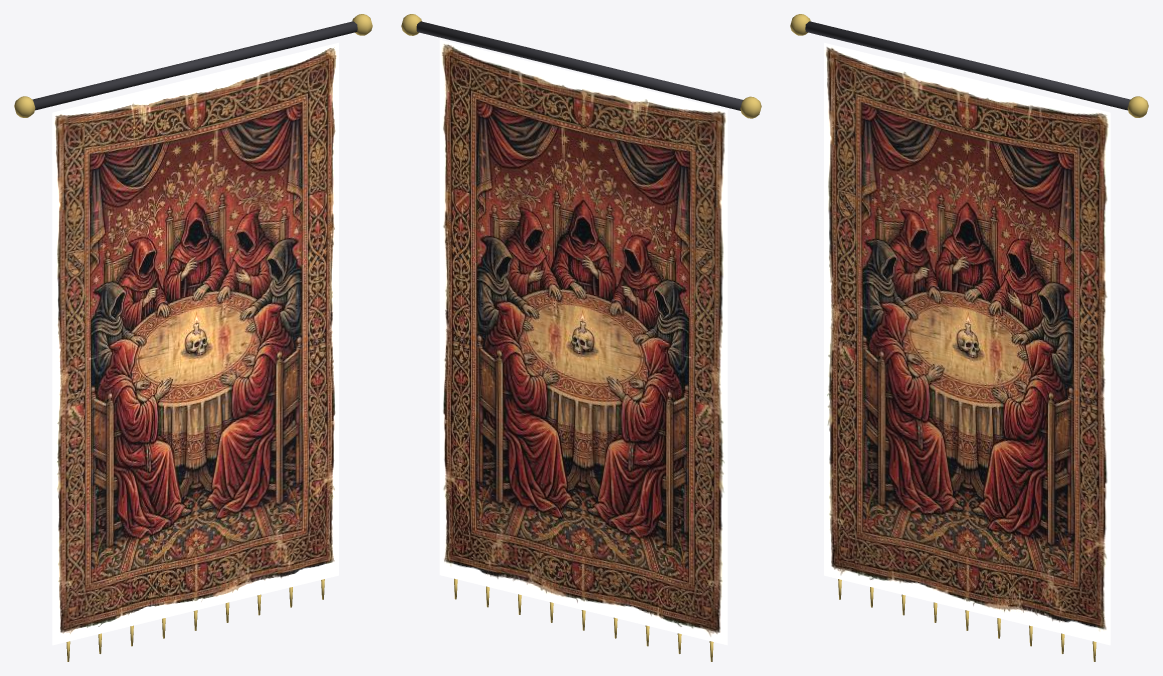
File: art_tapestry_council.glb
3 views of the same model, side by side, from view 1: azimuth 30°, elevation 25°; view 2: azimuth 150°, elevation 25°; view 3: azimuth 330°, elevation 25° (orthographic).
Parts seen in each view (by area): view 1: GD_art_tapestry_council__m0, GD_art_tapestry_council__m1, GD_art_tapestry_council__m2; view 2: GD_art_tapestry_council__m0, GD_art_tapestry_council__m1, GD_art_tapestry_council__m2; view 3: GD_art_tapestry_council__m0, GD_art_tapestry_council__m1, GD_art_tapestry_council__m2.
Part boxes in pixels (x1,y1,x2,y2): GD_art_tapestry_council__m0: [52, 42, 338, 645]; GD_art_tapestry_council__m1: [32, 21, 357, 110]; GD_art_tapestry_council__m2: [14, 14, 372, 661]; GD_art_tapestry_council__m0: [439, 39, 727, 645]; GD_art_tapestry_council__m1: [416, 21, 742, 110]; GD_art_tapestry_council__m2: [401, 14, 761, 661]; GD_art_tapestry_council__m0: [824, 42, 1110, 645]; GD_art_tapestry_council__m1: [805, 21, 1130, 110]; GD_art_tapestry_council__m2: [790, 14, 1148, 661].
Size of the model in its own units: 1.12 by 1.72 by 0.06.
Materials: 3 (1 with a texture image).
